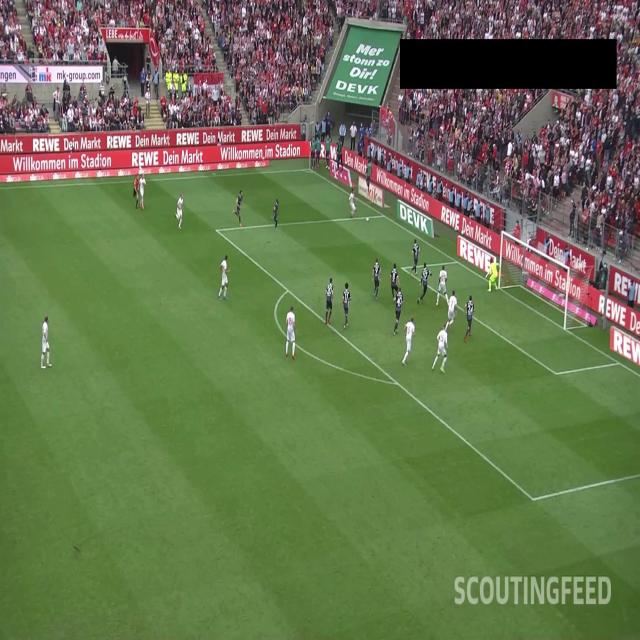ball: (366, 216, 369, 222)
team1: (417, 262, 432, 304), (392, 288, 403, 336), (464, 294, 475, 342), (342, 282, 352, 330), (324, 277, 334, 324), (388, 263, 401, 299), (232, 188, 244, 227), (372, 257, 381, 302), (411, 240, 420, 276), (270, 198, 280, 230)
team2: (432, 324, 448, 374), (402, 316, 416, 365), (40, 314, 52, 371), (436, 265, 450, 306), (444, 289, 458, 329), (218, 254, 230, 300), (285, 306, 295, 361), (175, 192, 184, 230), (139, 172, 146, 211), (349, 188, 355, 217)
